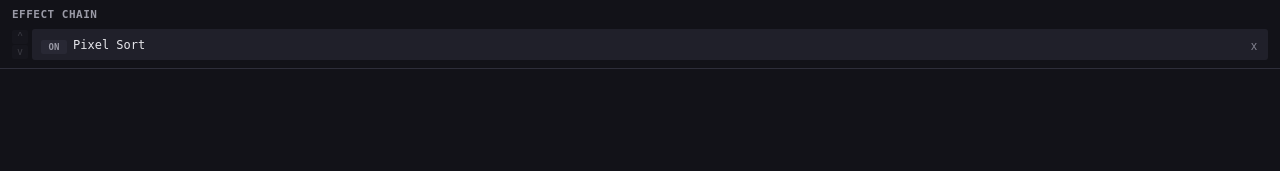
EffectRack — right-click menu (post-refactor) › shows all 4 actions when no effect is frozen and all callbacks provided
Right-click the element with class "effect-rack__item".
right_click(640, 44)  # box [12,29,1268,60]
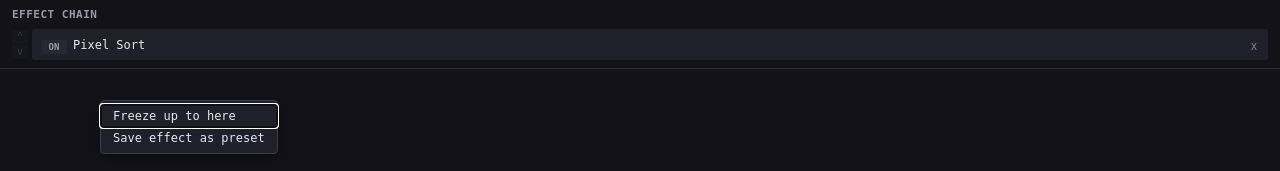
Now the menu item "Freeze up to here" is shown, box [101,105,277,127]
Now the menu item "Save effect as preset" is shown, box [101,127,277,149]
